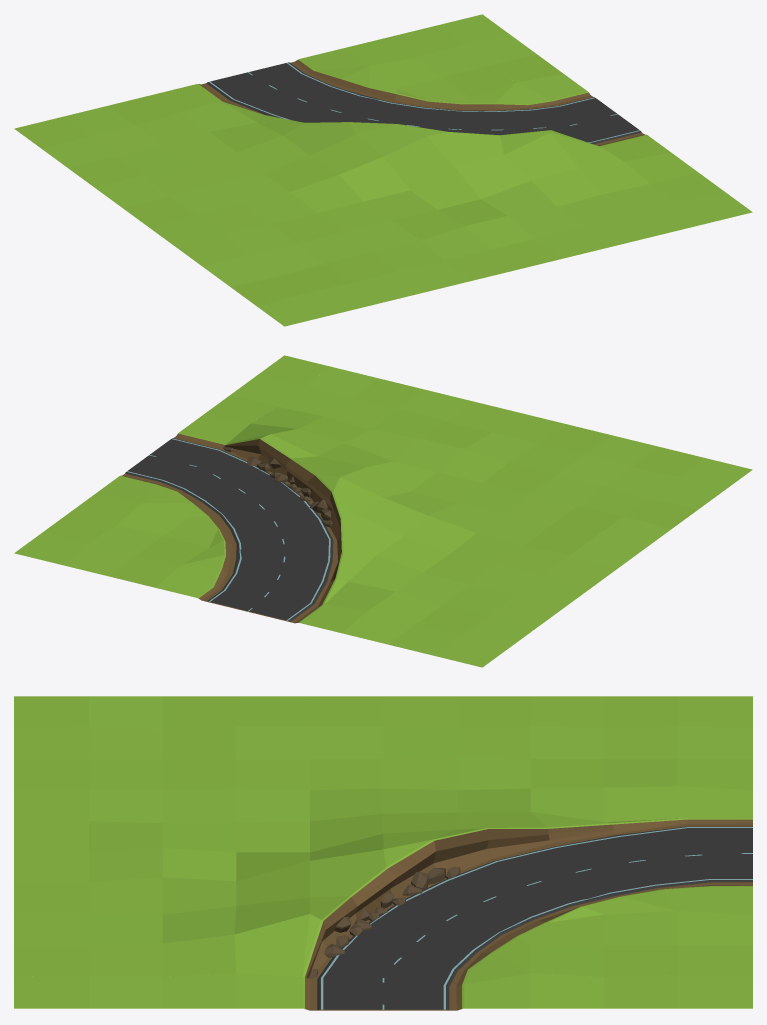
The model's file is model_road_grass_cornor_2.fbx.
3 renders of one model, top to bottom at view 1: azimuth 30°, elevation 25°; view 2: azimuth 150°, elevation 25°; view 3: azimuth 270°, elevation 25°, orthographic. The views are drawn at different scales.
Parts seen in each view (by area): view 1: model_road_grass_cornor_2; view 2: model_road_grass_cornor_2; view 3: model_road_grass_cornor_2.
Boxes of the visible parts, left/top/right/bottom form: model_road_grass_cornor_2: left=14, top=14, right=752, bottom=326; model_road_grass_cornor_2: left=14, top=355, right=752, bottom=667; model_road_grass_cornor_2: left=14, top=696, right=752, bottom=1010.
Size of the model in its own units: 6162 by 421 by 6162.
1 material, 1 textured.
